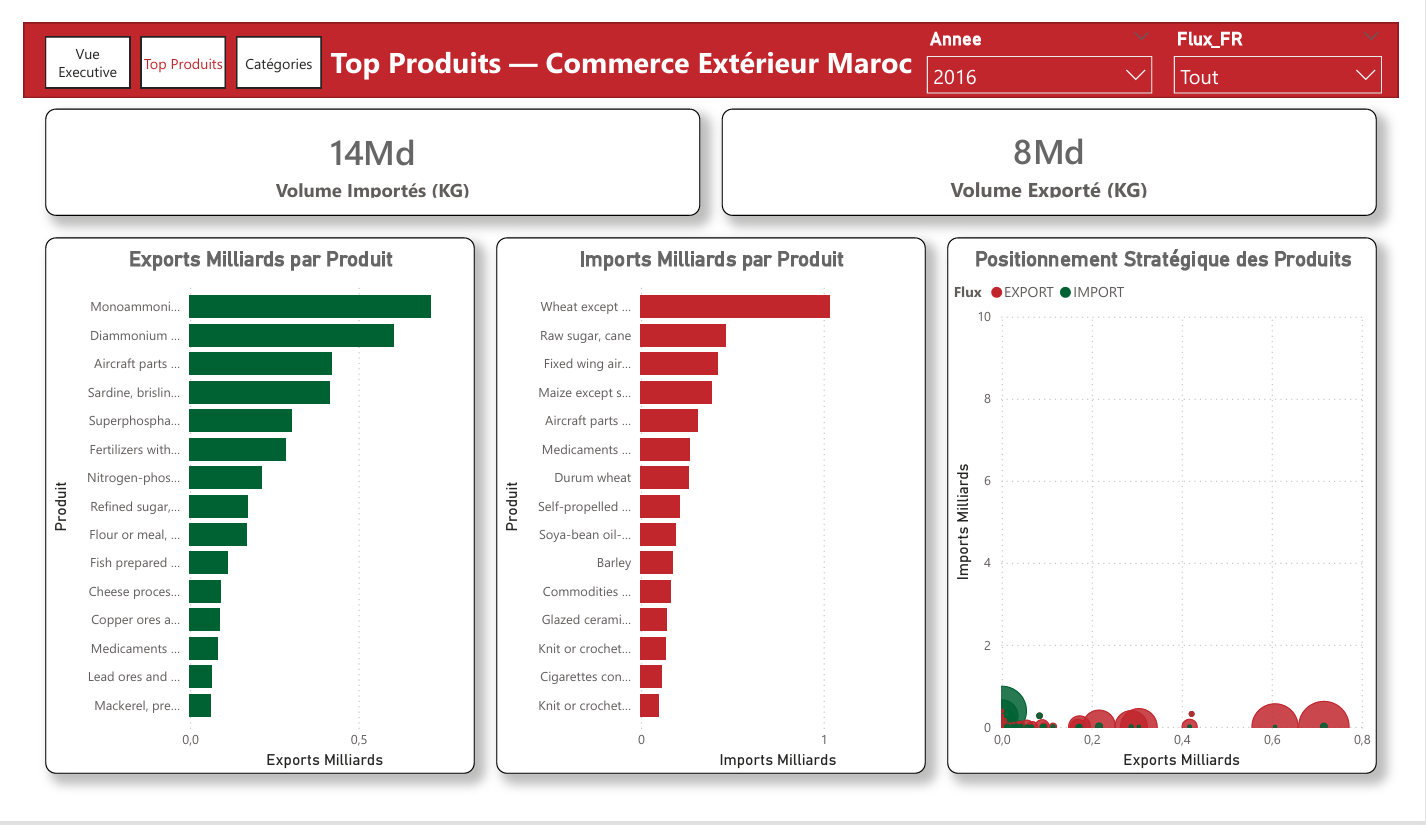

What the dashboard file says about the page in this screenshot:
{"tool":"powerbi","page":{"name":" Top Produits","canvas":[1280,720],"ordinal":1},"visuals":[{"type":"shape","box":[0,0,1280.3,70.5],"z":0},{"type":"cardVisual","fields":{"Data":["Fact_Commerce.Nb Produits Exportes"]},"box":[650,80,610,100],"z":1000},{"type":"cardVisual","fields":{"Data":["Fact_Commerce.Nb Produits Importes"]},"box":[20,80,610,100],"z":2000},{"type":"barChart","fields":{"Category":["Dim_Produit.Produit"],"Y":["Fact_Commerce.Exports Milliards"]},"box":[20,200,400,500],"z":3000},{"type":"barChart","fields":{"Category":["Dim_Produit.Produit"],"Y":["Fact_Commerce.Imports Milliards"]},"box":[440,200,400,500],"z":4000},{"type":"scatterChart","title":"Positionnement Stratégique des Produits","fields":{"X":["Fact_Commerce.Exports Milliards"],"Y":["Fact_Commerce.Imports Milliards"],"Category":["Dim_Produit.Produit"],"Size":["Sum(Fact_Commerce.Poids_KG)"],"Series":["Dim_Flux.Flux"]},"box":[860,200,400,500],"z":5000},{"type":"textbox","box":[126.2,13.1,860.7,60.7],"z":6000},{"type":"slicer","fields":{"Values":["Dim_Flux.Flux_FR"]},"box":[1060.7,0,214.8,70.5],"z":7000},{"type":"slicer","fields":{"Values":["Dim_Date.Annee"]},"box":[831.1,0,229.5,91.8],"z":8000},{"type":"pageNavigator","box":[19.7,13.1,257.4,47.5],"z":8001}]}

Visuals, with their boxes in screenshot pixels (x1, y1, x2, y2), scaled from the page's 1280x720 canvas onto the 1426x825 screenshot:
shape: bbox(0, 0, 1425, 81)
cardVisual - Fact_Commerce.Nb Produits Exportes: bbox(724, 92, 1404, 206)
cardVisual - Fact_Commerce.Nb Produits Importes: bbox(22, 92, 702, 206)
barChart - Dim_Produit.Produit x Fact_Commerce.Exports Milliards: bbox(22, 229, 468, 802)
barChart - Dim_Produit.Produit x Fact_Commerce.Imports Milliards: bbox(490, 229, 936, 802)
"Positionnement Stratégique des Produits" scatterChart: bbox(958, 229, 1404, 802)
textbox: bbox(141, 15, 1099, 85)
slicer - Dim_Flux.Flux_FR: bbox(1182, 0, 1421, 81)
slicer - Dim_Date.Annee: bbox(926, 0, 1182, 105)
pageNavigator: bbox(22, 15, 309, 69)
